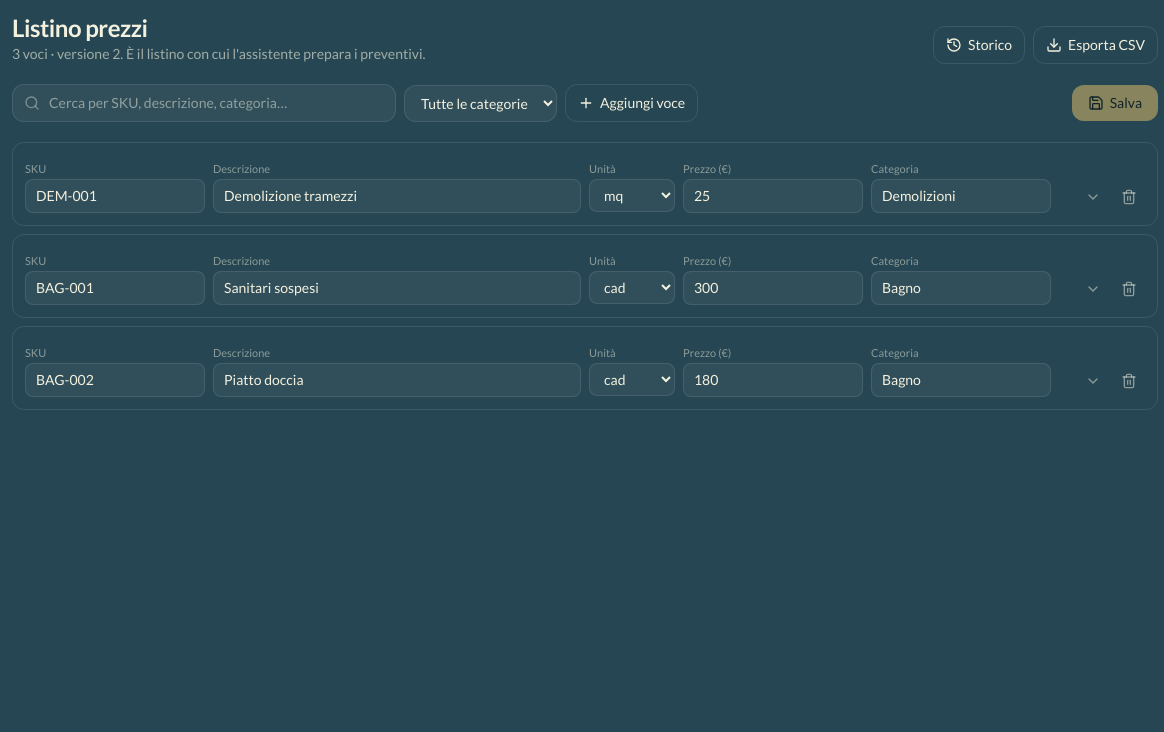
Test case: PriceBookEditor › refuses to save invalid lines and says which
Replace the text in the field with test id "pb-sku-1" with "DEM-001" at (115, 288), box [25, 271, 205, 305]
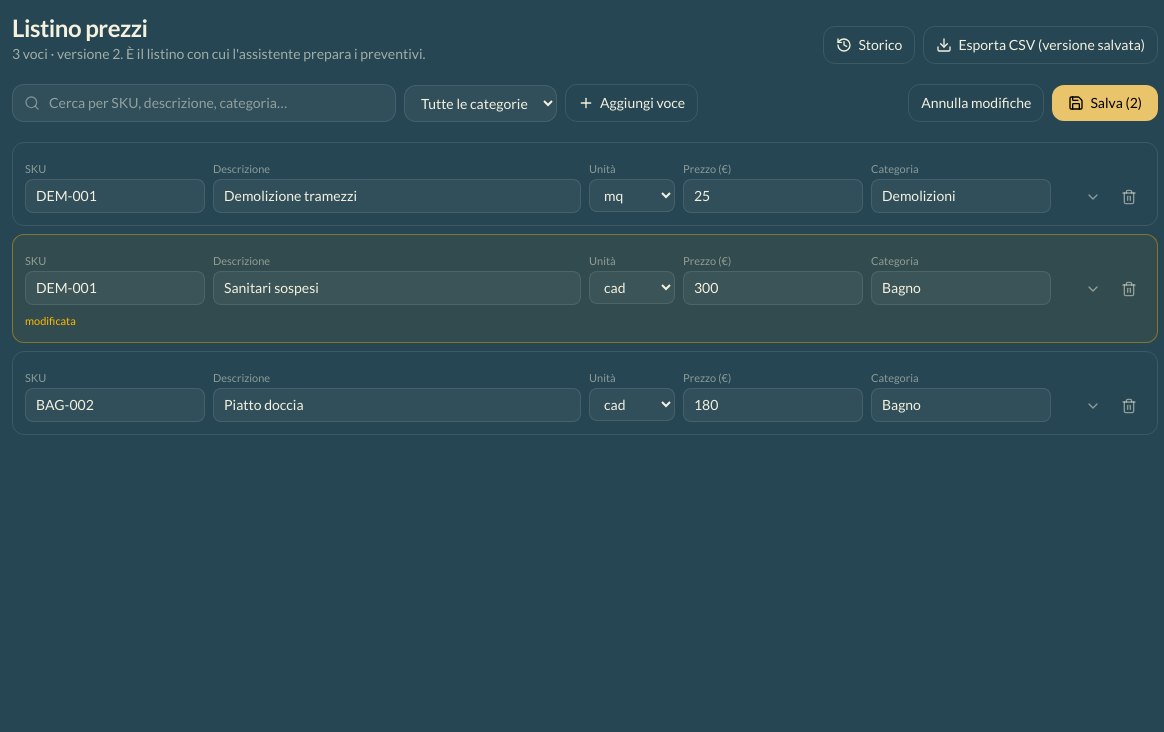
Clear the number field with test id "pb-price-2" at (773, 404), box [683, 388, 863, 422]
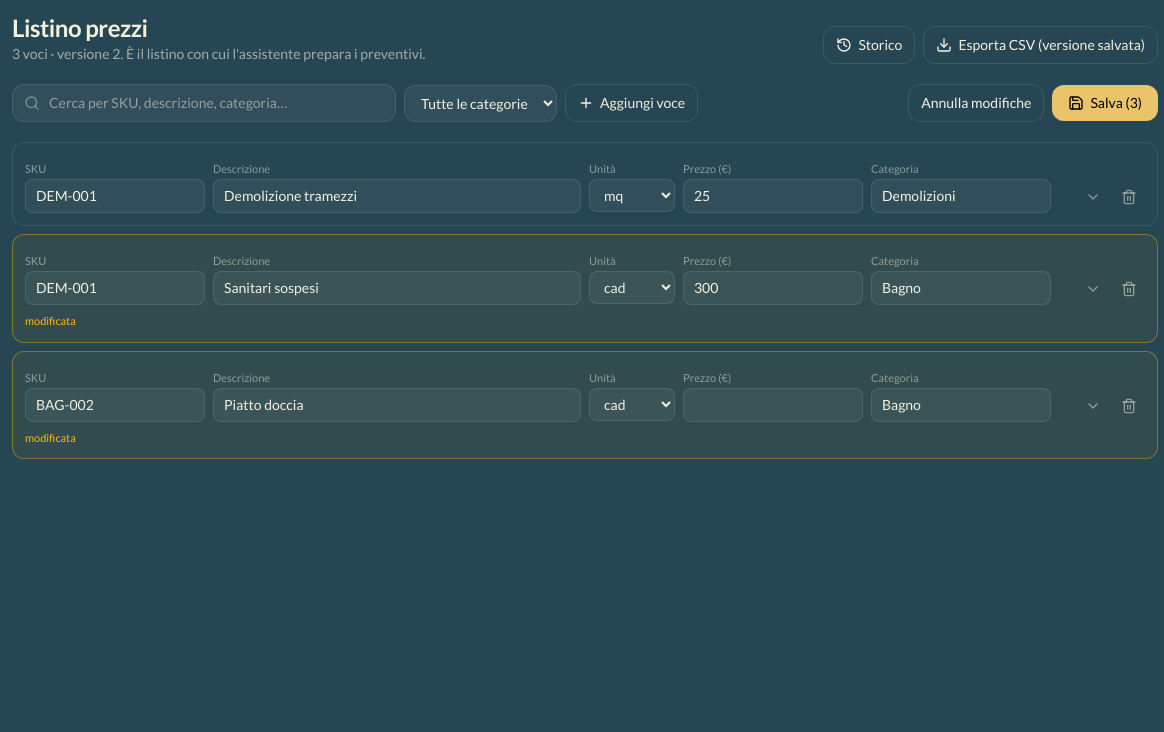
Click the button with test id "pb-save".
click(1105, 103)  # box [1052, 85, 1158, 121]
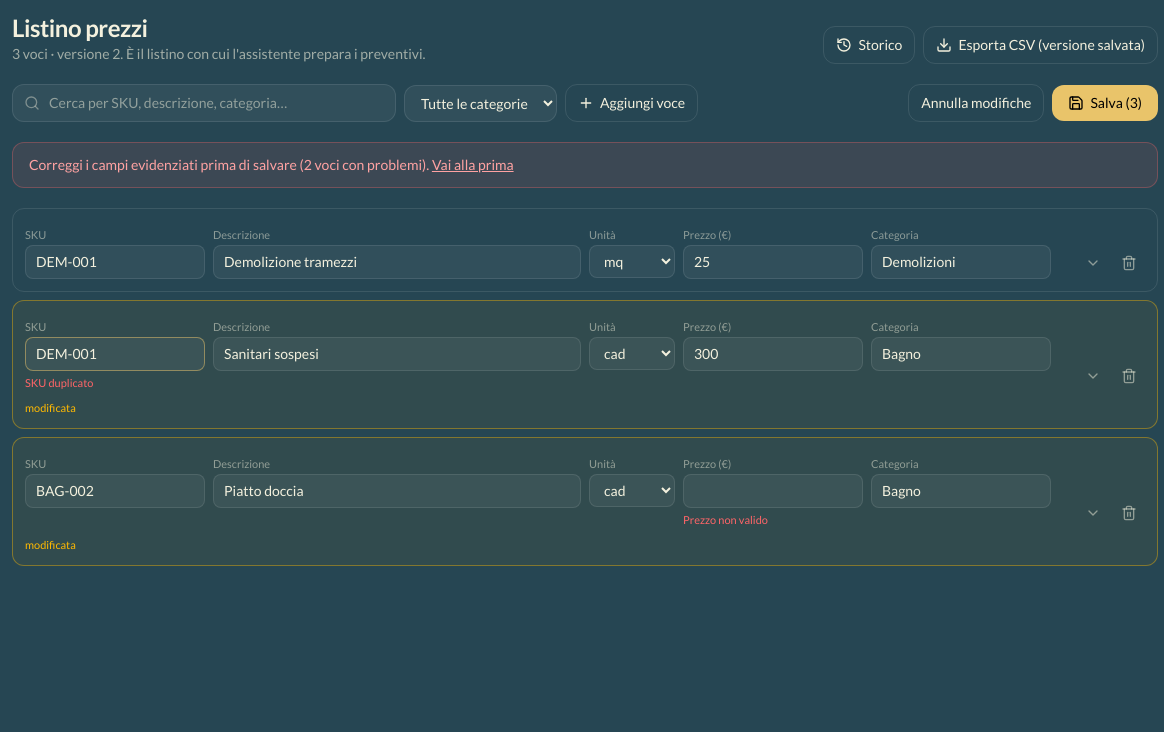
Result: the message with test id "pb-issues" shows "2 voci con problemi" at [12, 142, 1158, 188]
Result: the text "SKU duplicato" is shown at [25, 376, 93, 389]
